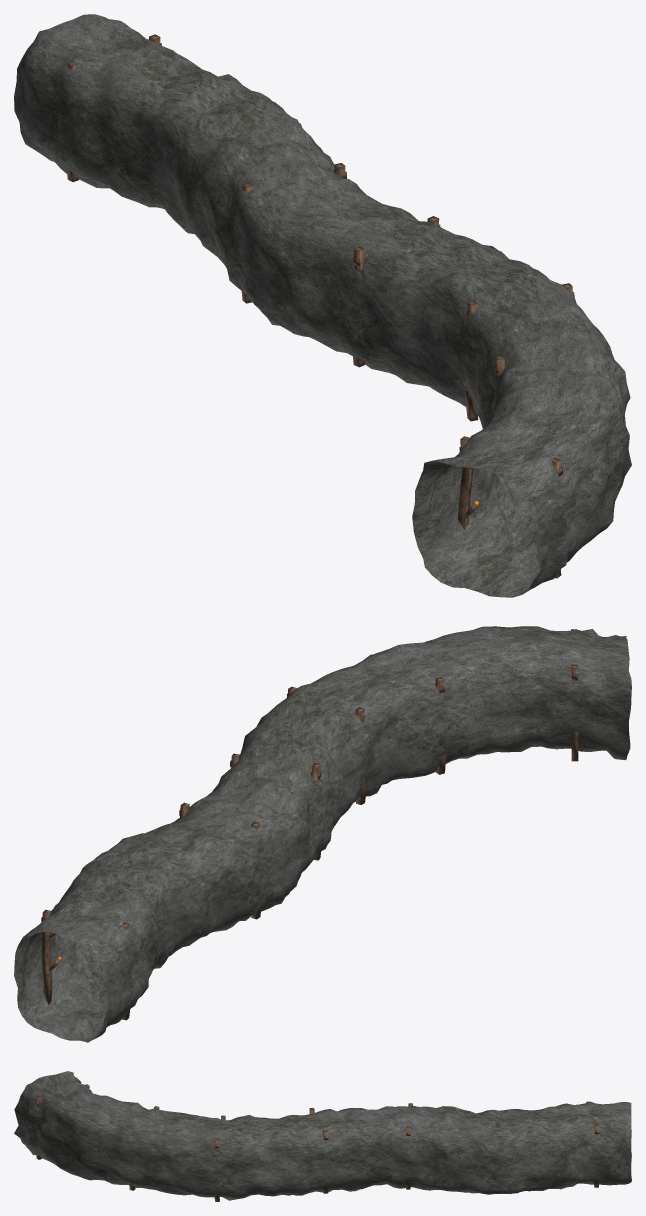
The model's file is RealisticCave2.fbx.
3 renders of one model, top to bottom at view 1: azimuth 30°, elevation 25°; view 2: azimuth 150°, elevation 25°; view 3: azimuth 270°, elevation 25°, orthographic. The views are drawn at different scales.
Parts seen in each view (by area): view 1: Cube.026, Cube.064, Cube.074; view 2: Cube.026, Cube.001, Cube.064; view 3: Cube.026, Cube.064.
Boxes of the visible parts, bbox=[...] form: Cube.026: bbox=[14, 14, 631, 597]; Cube.064: bbox=[353, 216, 574, 421]; Cube.074: bbox=[457, 436, 562, 578]; Cube.026: bbox=[14, 626, 631, 1042]; Cube.001: bbox=[41, 909, 130, 1020]; Cube.064: bbox=[230, 686, 367, 860]; Cube.026: bbox=[14, 1071, 631, 1200]; Cube.064: bbox=[214, 1108, 328, 1201].
Bounding box in the file's own units: 2512 × 1144 × 8496.
Materials: 3 (2 with a texture image).
